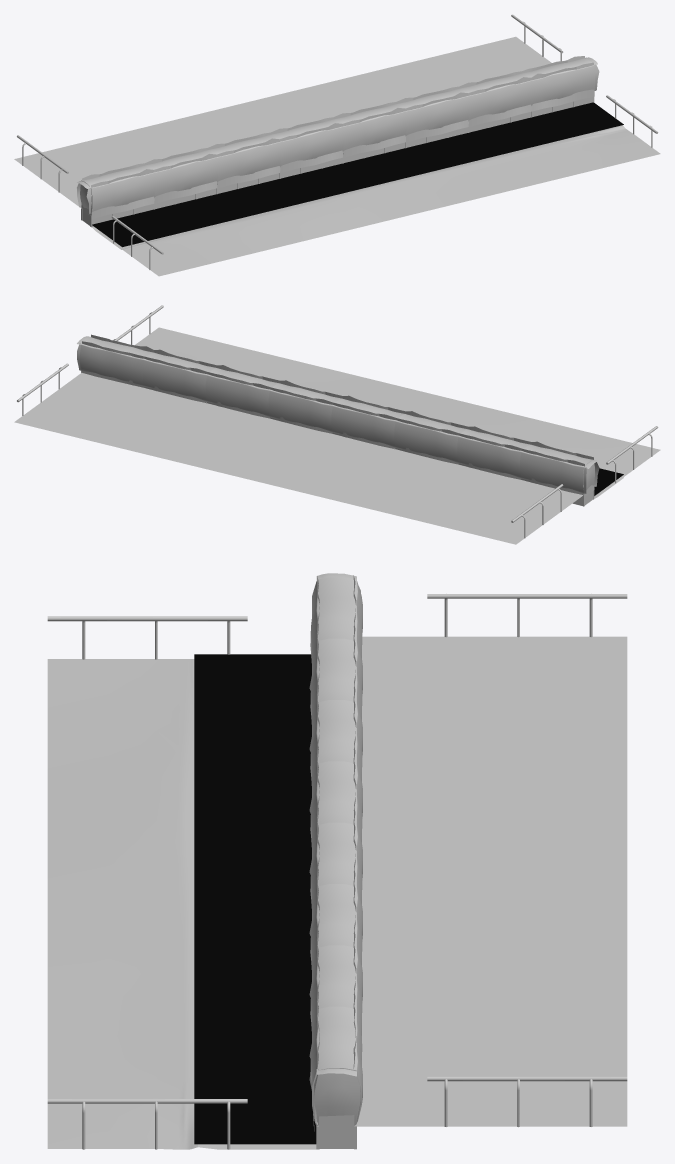
The model's file is Jump_D.fbx.
3 renders of one model, top to bottom at view 1: azimuth 30°, elevation 25°; view 2: azimuth 150°, elevation 25°; view 3: azimuth 270°, elevation 25°, orthographic. The views are drawn at different scales.
Parts seen in each view (by area): view 1: Grass_B, Grass_A, Outer, Water, Fronds, Fence_A, Side_Fence_B, Side_Fence_A; view 2: Grass_A, Outer, Grass_B, Fronds, Side_Fence_B, Side_Fence_A, Water; view 3: Grass_A, Grass_B, Water, Outer, Side_Fence_A, Side_Fence_B, Fronds.
Part boxes in pixels (x1=…): Grass_B: x1=92, y1=125, x2=660, y2=276; Grass_A: x1=14, y1=36, x2=551, y2=207; Outer: x1=80, y1=58, x2=595, y2=215; Water: x1=92, y1=102, x2=623, y2=247; Fronds: x1=77, y1=56, x2=599, y2=218; Fence_A: x1=90, y1=96, x2=594, y2=227; Side_Fence_B: x1=17, y1=135, x2=163, y2=269; Side_Fence_A: x1=511, y1=14, x2=658, y2=147; Grass_A: x1=14, y1=373, x2=582, y2=544; Outer: x1=80, y1=337, x2=594, y2=493; Grass_B: x1=135, y1=327, x2=660, y2=498; Fronds: x1=77, y1=334, x2=599, y2=496; Side_Fence_B: x1=511, y1=426, x2=658, y2=538; Side_Fence_A: x1=17, y1=305, x2=163, y2=415; Water: x1=594, y1=468, x2=623, y2=495; Grass_A: x1=356, y1=636, x2=627, y2=1126; Grass_B: x1=47, y1=659, x2=319, y2=1149; Water: x1=194, y1=654, x2=316, y2=1144; Outer: x1=310, y1=577, x2=362, y2=1125; Side_Fence_A: x1=47, y1=1076, x2=627, y2=1149; Side_Fence_B: x1=47, y1=594, x2=627, y2=659; Fronds: x1=309, y1=573, x2=360, y2=1132.
Size of the model in its own units: 25.54 by 2.21 by 12.5.
